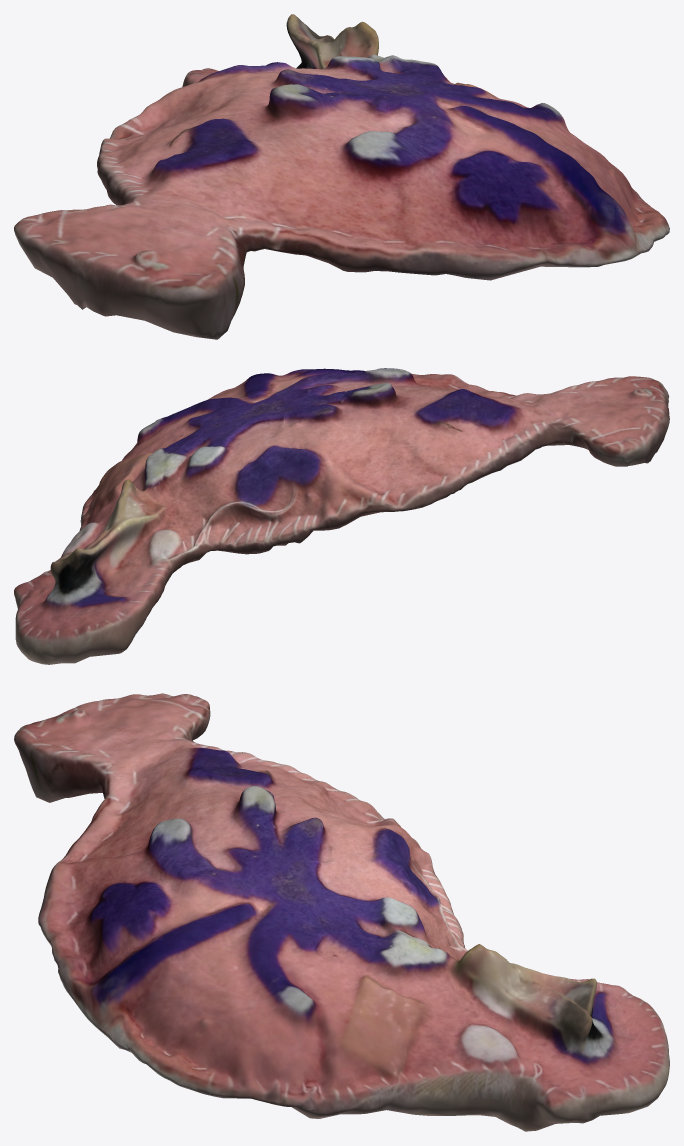
3 renders of one model, top to bottom at view 1: azimuth 30°, elevation 25°; view 2: azimuth 150°, elevation 25°; view 3: azimuth 270°, elevation 25°, orthographic. The views are drawn at different scales.
Bounding box in the file's own units: 0.8261 × 0.3258 × 0.8429.
Materials: 1 (1 with a texture image).
